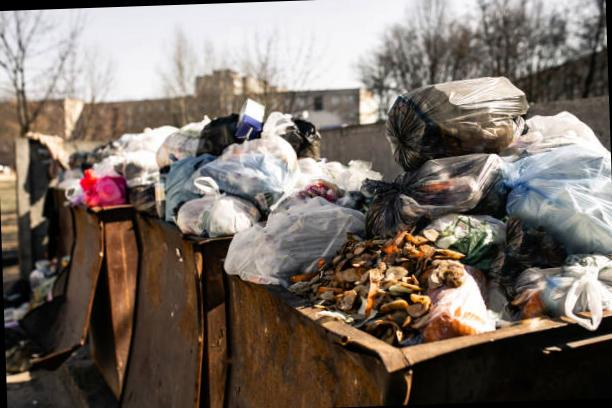trash: (227, 55, 611, 359), (140, 90, 354, 238), (60, 115, 192, 211), (2, 248, 64, 372)
trash_can_overflow: (204, 20, 612, 408), (103, 65, 370, 408), (44, 79, 226, 389)
